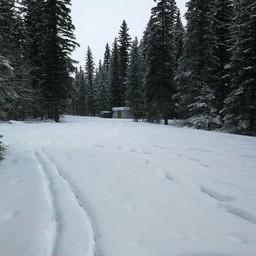Snow: (0, 115, 255, 255), (113, 107, 129, 111)
